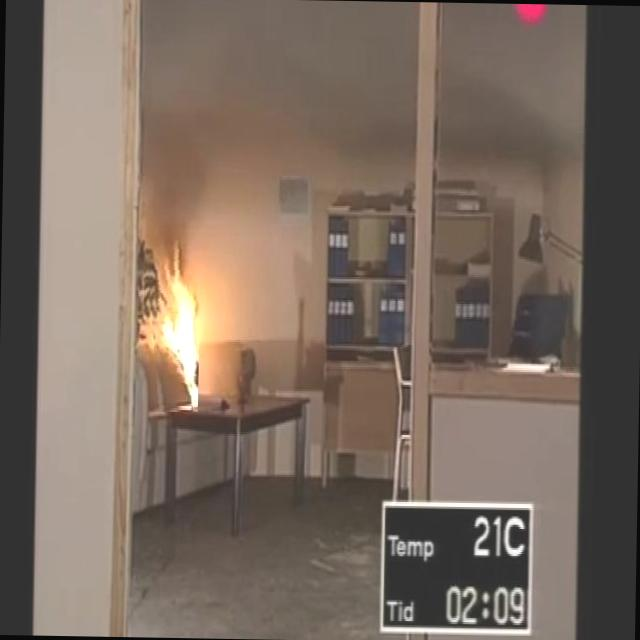fire: (148, 258, 218, 386)
